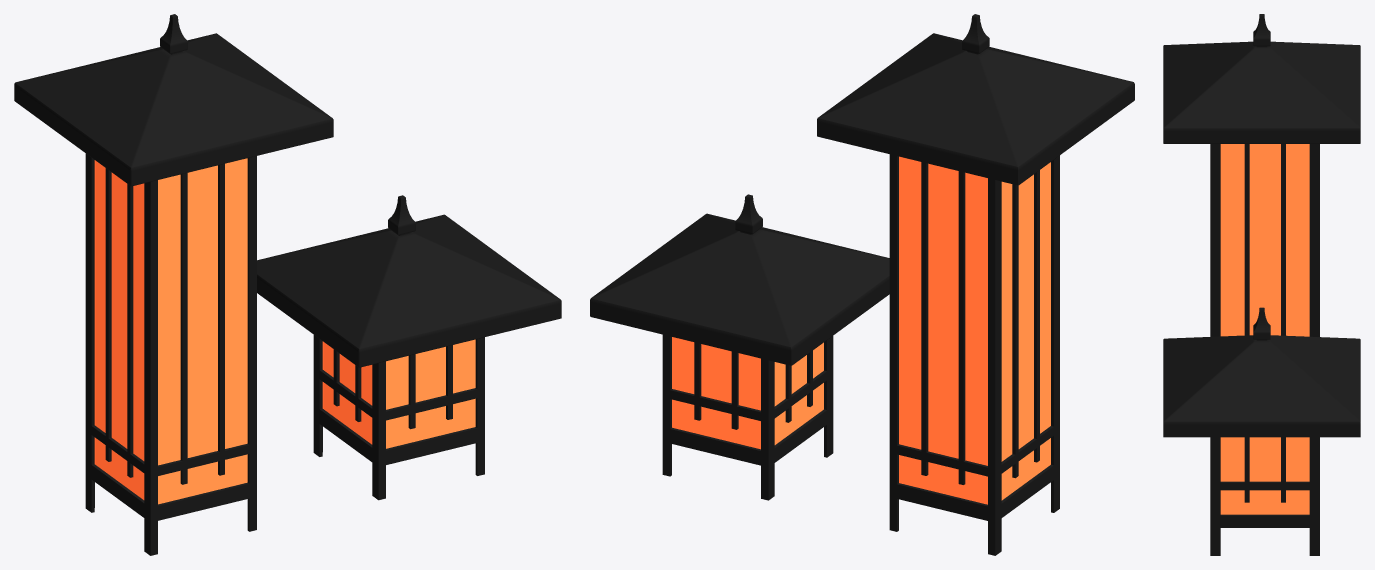
3 views of the same model, side by side, from view 1: azimuth 30°, elevation 25°; view 2: azimuth 150°, elevation 25°; view 3: azimuth 270°, elevation 25° (orthographic). The views are drawn at different scales.
Parts seen in each view (by area): view 1: ST-灯笼3; view 2: ST-灯笼3; view 3: ST-灯笼3.
Boxes of the visible parts, left/top/right/bottom form: ST-灯笼3: left=14, top=14, right=561, bottom=555; ST-灯笼3: left=590, top=14, right=1134, bottom=555; ST-灯笼3: left=1163, top=14, right=1360, bottom=555.
Bounding box in the file's own units: 0.6377 × 0.3003 × 0.7137.
